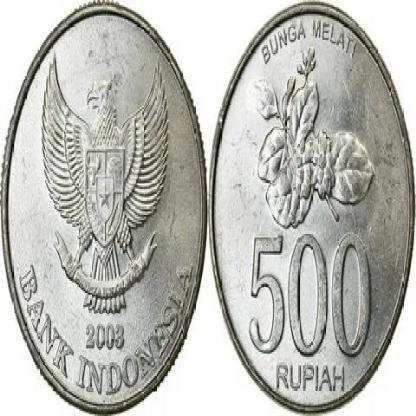coin_500_e2003: (206, 0, 416, 416), (0, 0, 207, 416)
